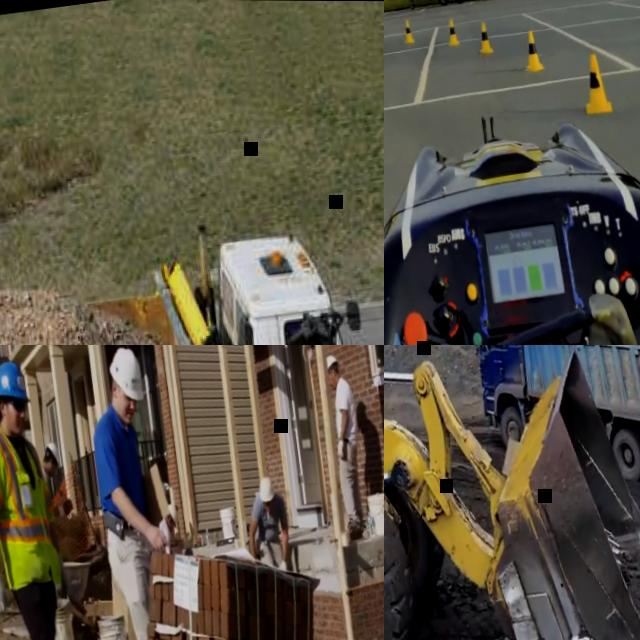Hardhat: (109, 347, 147, 405), (0, 358, 30, 404), (257, 472, 277, 500), (45, 438, 61, 464), (168, 501, 182, 525), (326, 350, 338, 368)
NO-Mask: (4, 414, 28, 441), (118, 402, 134, 422), (329, 375, 337, 387), (266, 505, 274, 516)
NO-Safety Vest: (91, 413, 152, 533), (334, 378, 361, 442), (256, 495, 288, 548), (160, 516, 177, 552), (43, 472, 55, 500)
Person: (76, 345, 196, 640), (0, 354, 94, 640), (437, 288, 640, 345), (321, 352, 374, 537), (242, 470, 299, 577), (39, 438, 67, 515), (157, 501, 185, 550)
Safety Cone: (581, 50, 614, 116), (523, 26, 547, 72), (476, 20, 495, 57), (402, 15, 419, 46), (446, 16, 461, 49)
Safety Vest: (0, 419, 60, 594)
vehicle: (384, 345, 640, 640), (384, 78, 640, 345), (0, 214, 384, 345), (465, 345, 640, 516)
